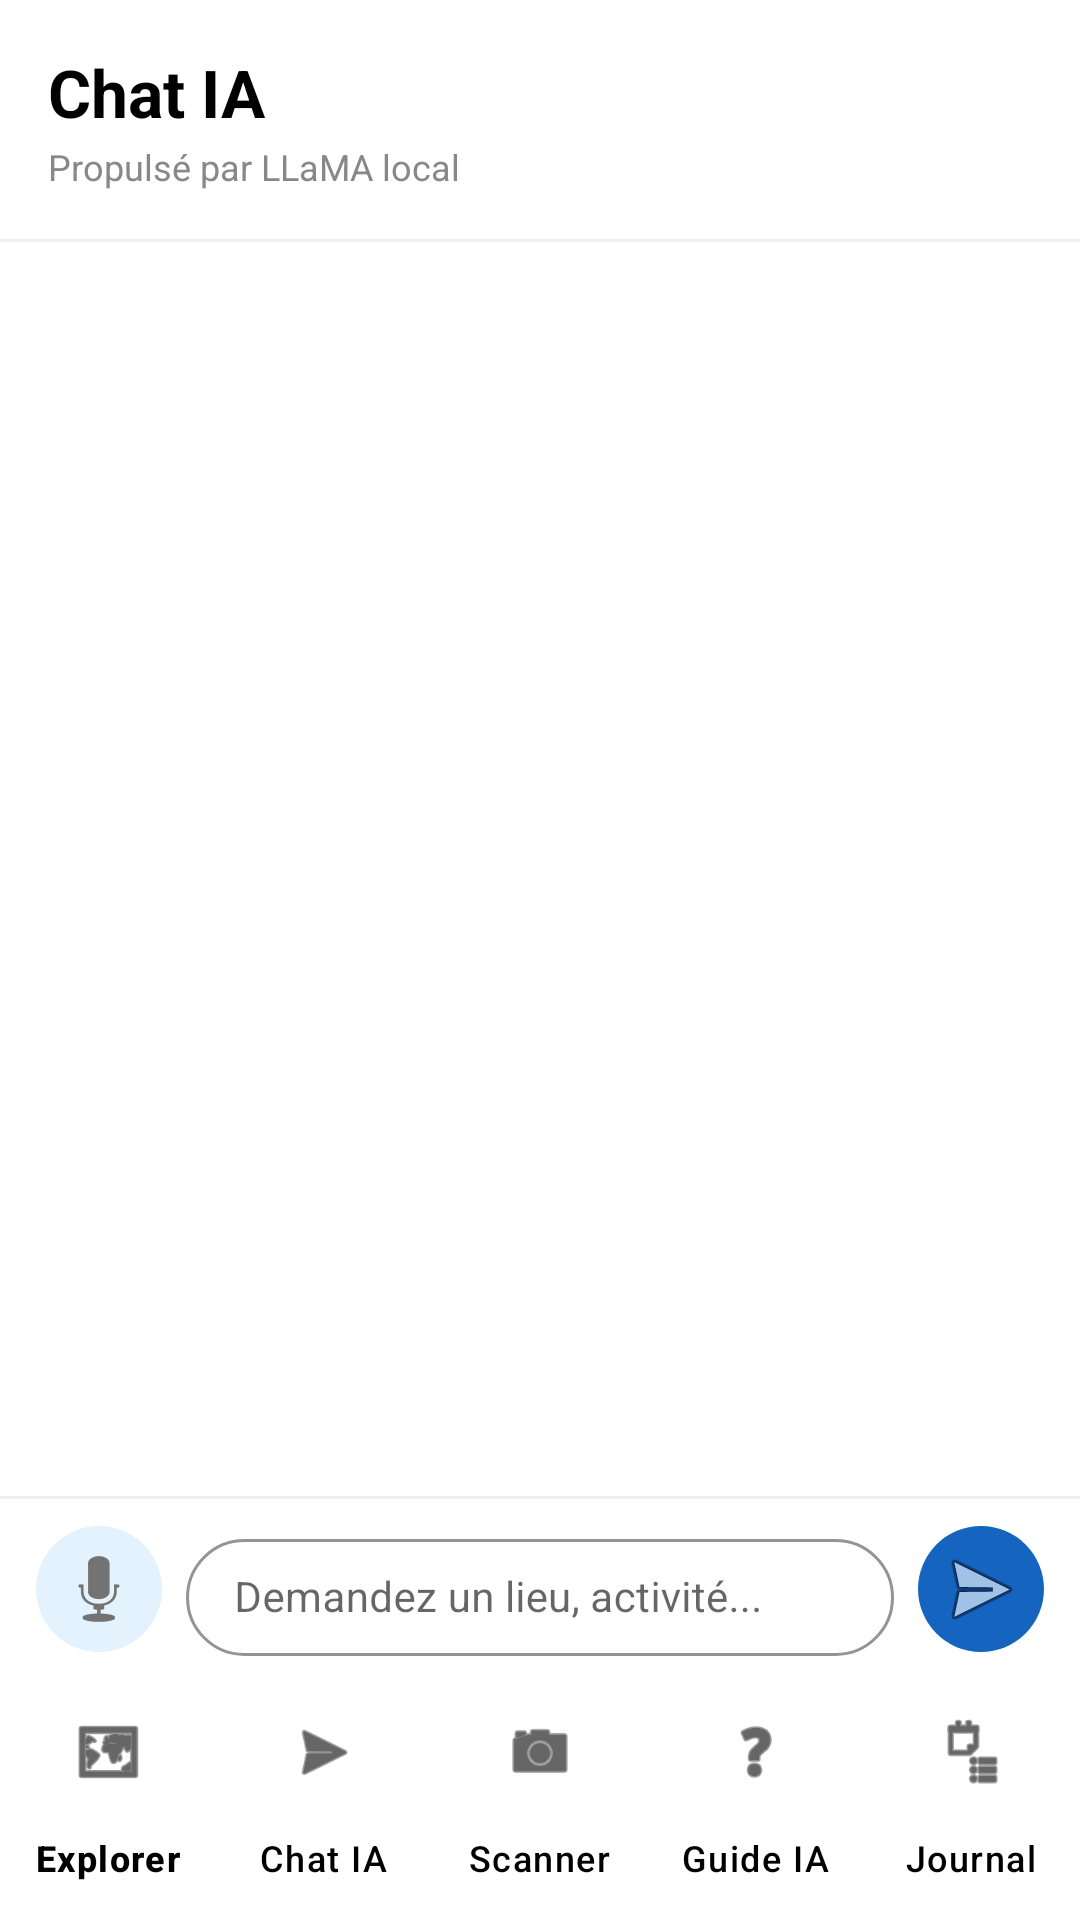

Icons on this 1080*1920 Android screen, each with the point to tap as (x,y):
Envoyer: (981,1589)
Microphone: (99,1589)
